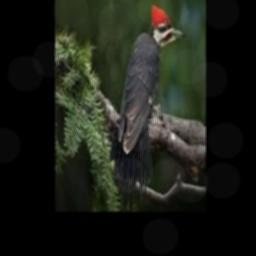Woodpecker: (110, 2, 185, 211)
